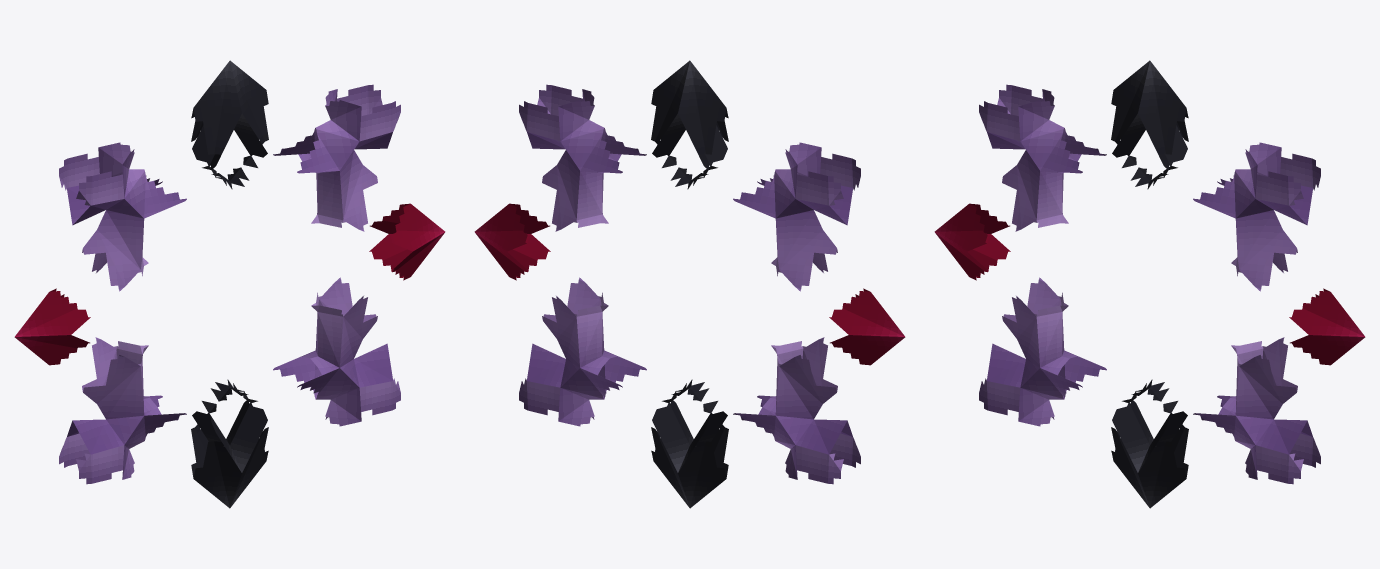
The model's file is divebombers.obj.
The picture shows the model from 3 angles, left to right: view 1: azimuth 30°, elevation 25°; view 2: azimuth 150°, elevation 25°; view 3: azimuth 330°, elevation 25°; orthographic projection.
Size of the model in its own units: 85.32 by 84.76 by 8.26.
